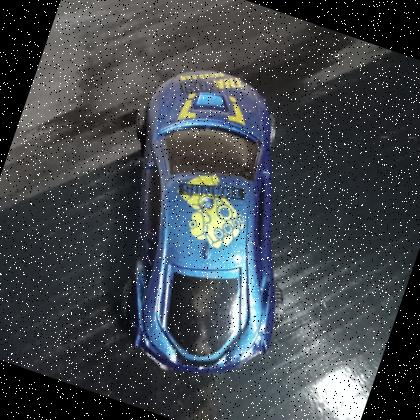Car: (125, 70, 275, 377)
